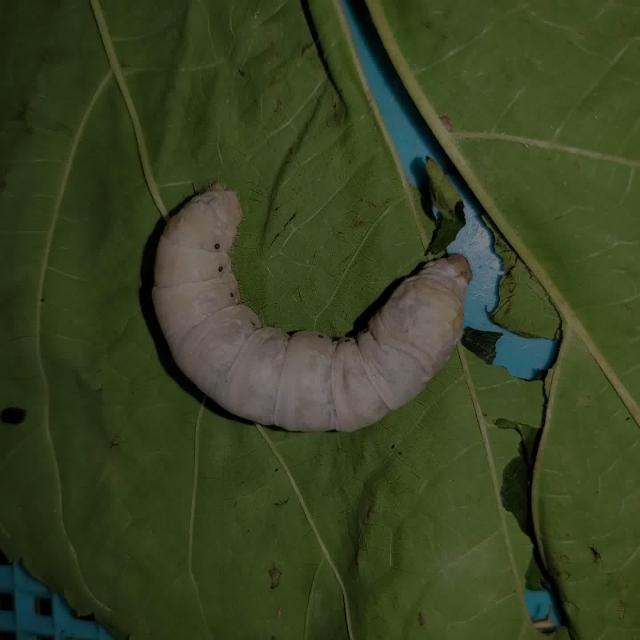Grasserie: (120, 129, 492, 471)
